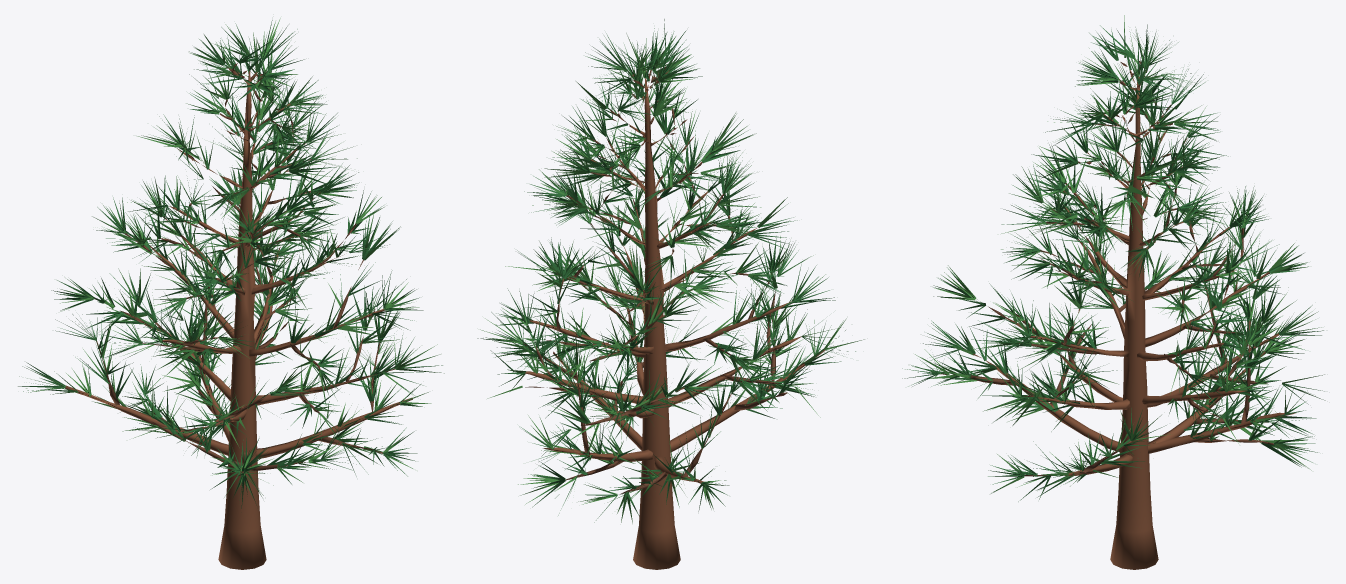
The model's file is 8_2_mid.glb.
3 views of the same model, side by side, from view 1: azimuth 30°, elevation 25°; view 2: azimuth 150°, elevation 25°; view 3: azimuth 270°, elevation 25° (orthographic).
Visible parts, largest first — view 1: body; view 2: body; view 3: body.
Boxes of the visible parts, x1,y1,x2,y2 form: body: (18, 18, 444, 569); body: (477, 19, 864, 569); body: (902, 15, 1325, 569).
Size of the model in its own units: 2.09 by 3.3 by 2.41.
1 material, 1 textured.
